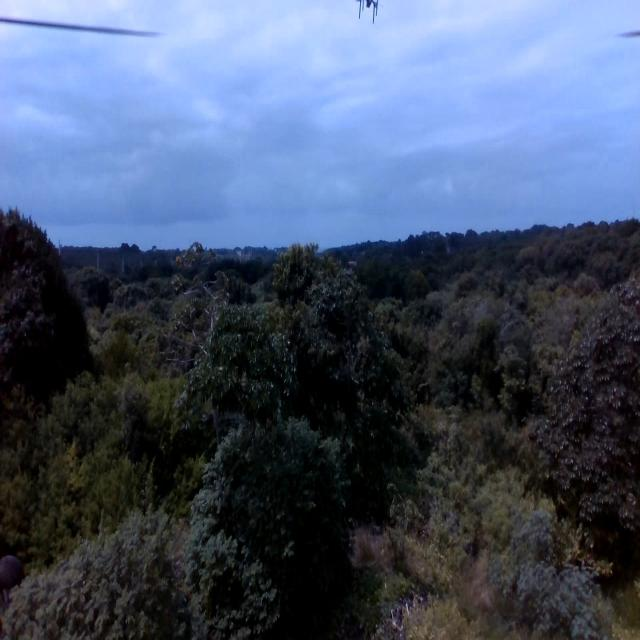-uav-: (351, 0, 385, 31)
